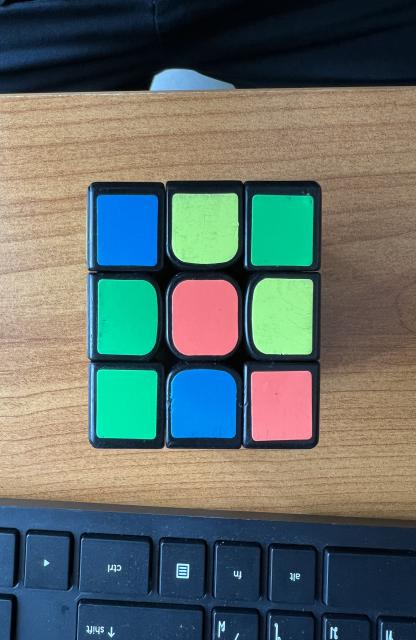Blue: (170, 369, 237, 439), (96, 195, 158, 266)
Green: (98, 279, 158, 355), (251, 195, 313, 266), (96, 369, 157, 439)
Orange: (172, 280, 238, 355), (251, 371, 312, 441)
Yellow: (171, 192, 238, 264), (251, 278, 313, 355)
